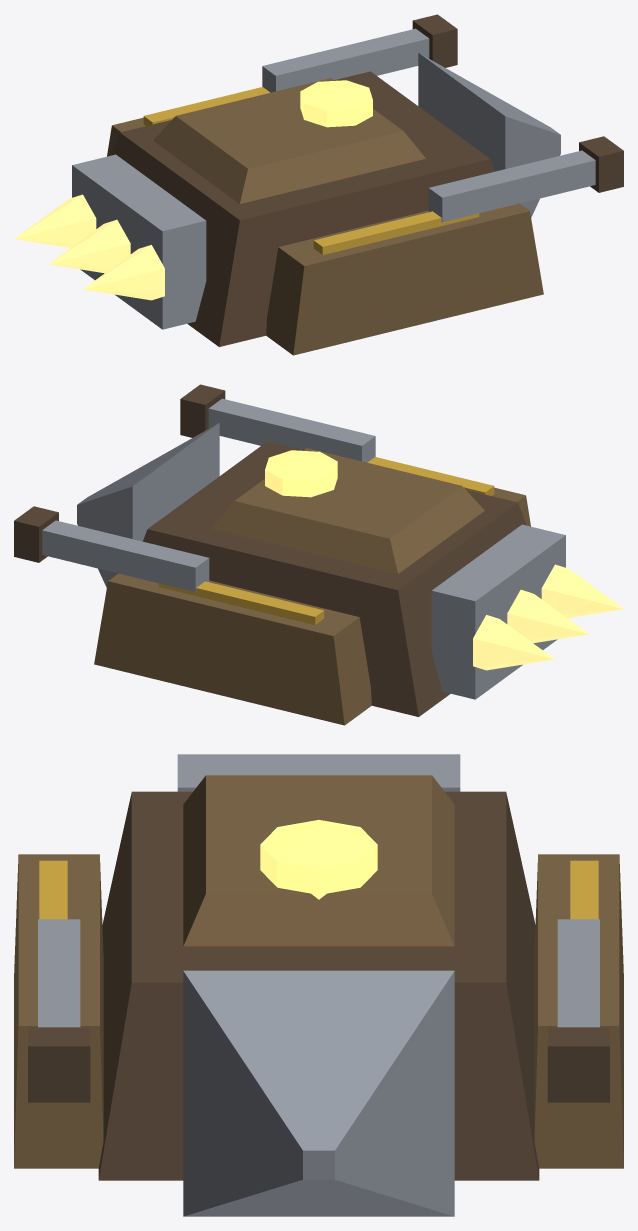
File: enemy_brute.glb
The picture shows the model from 3 angles, top to bottom: view 1: azimuth 30°, elevation 25°; view 2: azimuth 150°, elevation 25°; view 3: azimuth 270°, elevation 25°; orthographic projection. The views are drawn at different scales.
Visible parts, largest first — view 1: Hull, GlowEngine, GlowCore; view 2: Hull, GlowEngine, GlowCore; view 3: Hull, GlowCore.
Part boxes in pixels (x1,y1,x2,y2): Hull: (72,14,623,355); GlowEngine: (14,194,164,300); GlowCore: (300,80,372,127); Hull: (14,384,565,725); GlowEngine: (473,564,623,670); GlowCore: (265,450,337,497); Hull: (14,754,623,1216); GlowCore: (260,820,377,899).
Size of the model in its own units: 1.62 by 0.5704 by 1.08.
